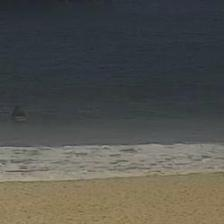surfer: (10, 106, 27, 123)
